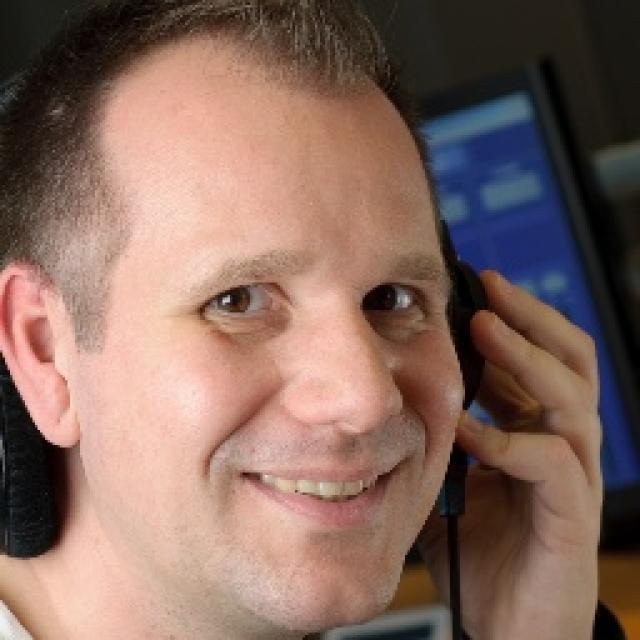earlobe: (23, 390, 79, 450)
eye: (203, 284, 283, 319), (362, 281, 429, 316)
nose: (297, 418, 399, 462)
wholeear: (0, 265, 79, 451)
